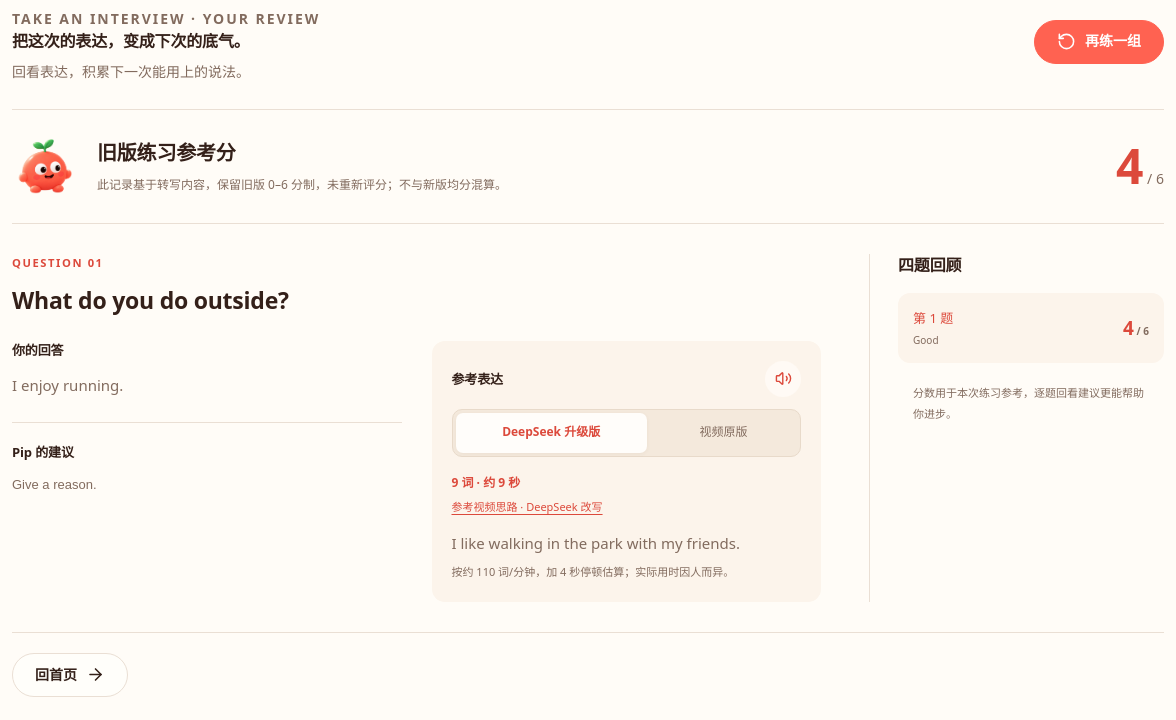
Scenario: stops read-aloud on version changes and unloads the original when returning to the upgrade
Click the button named "朗读范例".
click(783, 379)  # box [765,361,801,397]
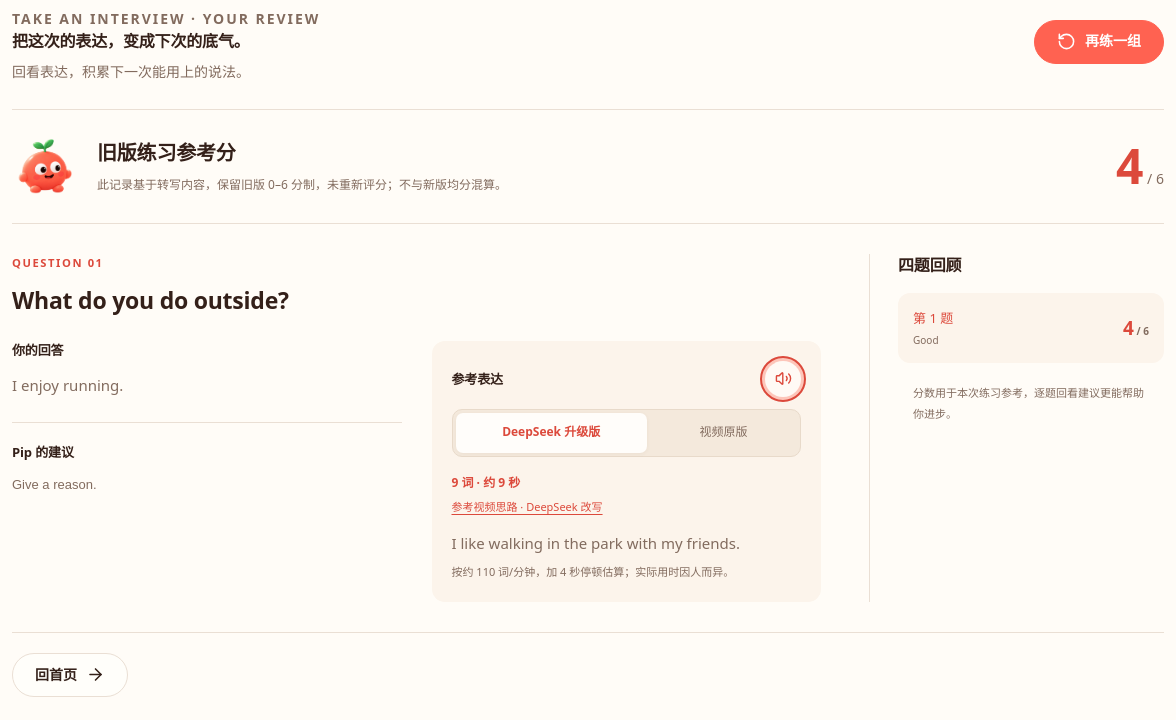
Click the button "视频原版".
click(723, 433)  # box [650,413,797,453]
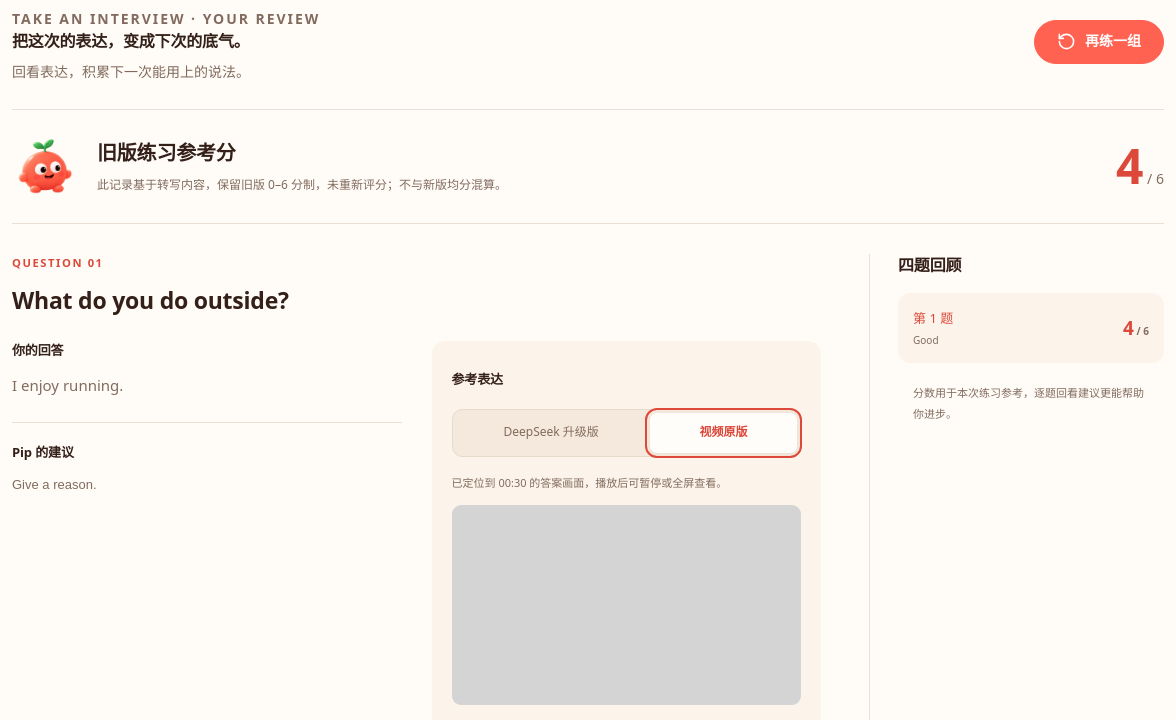
Click the button "DeepSeek 升级版".
click(551, 433)  # box [456,413,647,453]
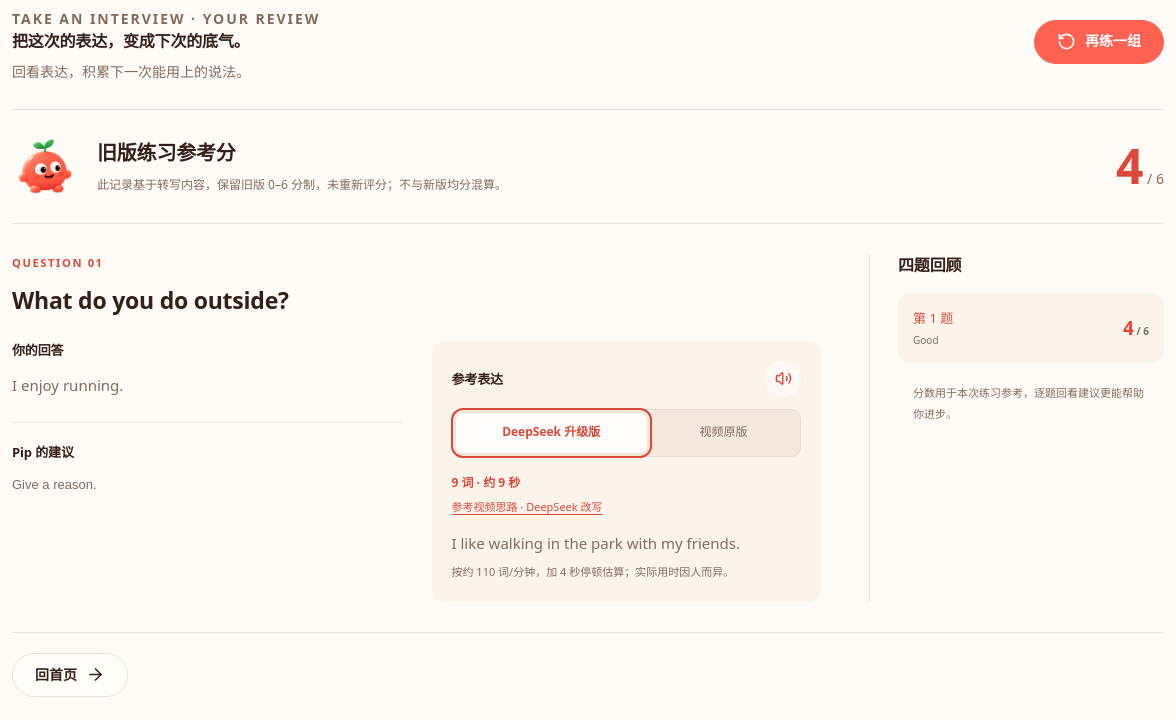
Result: the text "I like walking in the park with my friends." is shown at [452,533,740,553]
